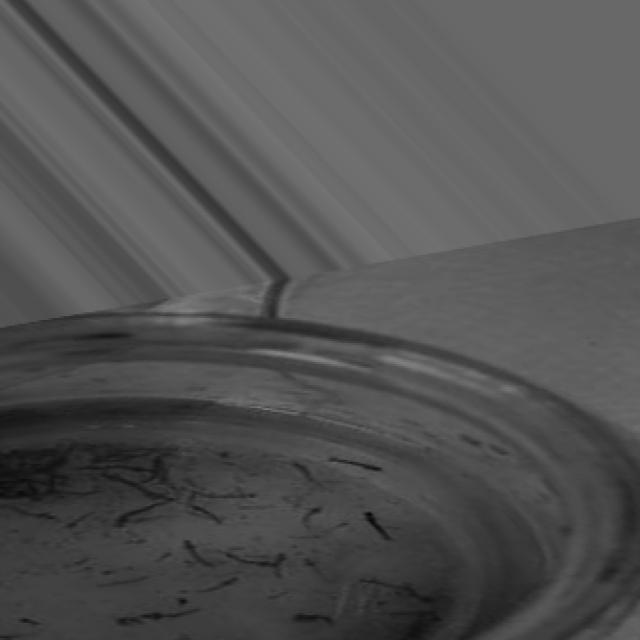larvas: (113, 477, 168, 498), (121, 503, 167, 526), (332, 452, 381, 473), (185, 536, 216, 569), (366, 572, 412, 594), (364, 509, 394, 542), (230, 549, 276, 569), (194, 487, 258, 501), (87, 463, 150, 475), (15, 509, 56, 526), (199, 578, 237, 596), (144, 609, 200, 619), (296, 609, 331, 624), (387, 609, 437, 619), (194, 503, 219, 522), (414, 585, 436, 605), (146, 456, 162, 481), (70, 509, 92, 527), (67, 488, 97, 500), (303, 508, 320, 528), (117, 615, 145, 627), (300, 461, 317, 480), (274, 550, 286, 576), (22, 616, 40, 628)
